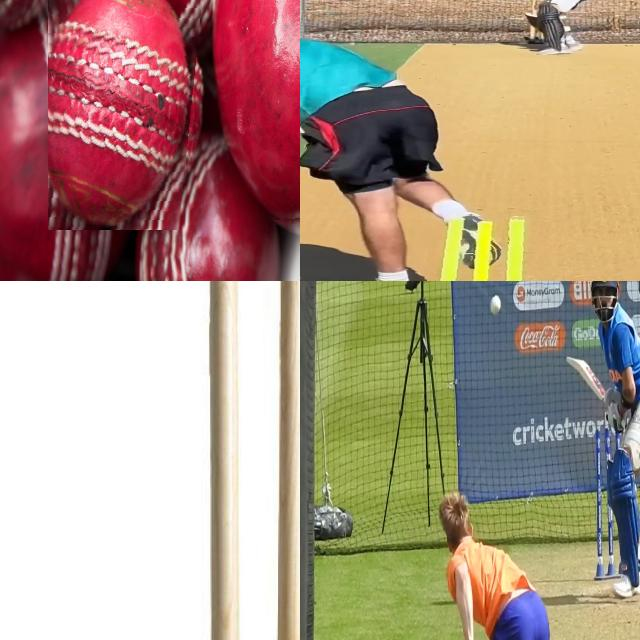Cricket ball: (48, 0, 205, 230), (210, 0, 300, 225), (489, 291, 502, 321)
Stumps: (203, 281, 300, 640), (427, 214, 552, 281)
